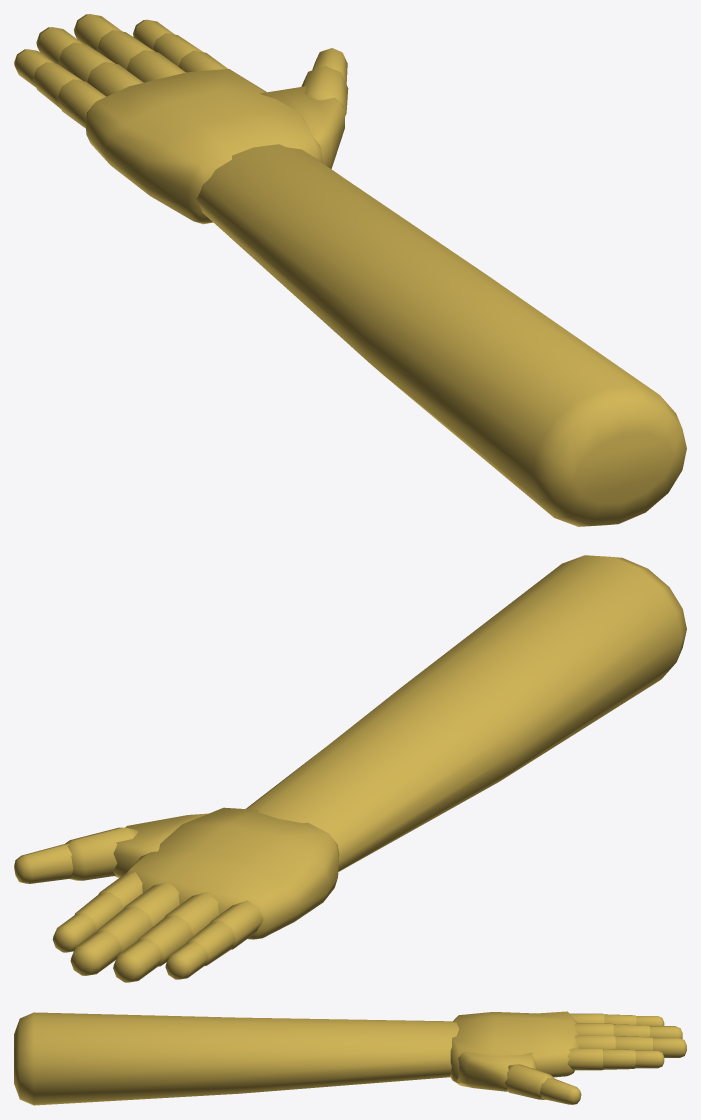
The model's file is hand.glb.
The picture shows the model from 3 angles, top to bottom: view 1: azimuth 30°, elevation 25°; view 2: azimuth 150°, elevation 25°; view 3: azimuth 270°, elevation 25°; orthographic projection. The views are drawn at different scales.
Visible parts, largest first — view 1: arm_lower, hand, thumb_0, pinky_0, thumb_1, middle_1, middle_0, ring_1, ring_0, pinky_1, middle_2, ring_2 (+1 smaller); view 2: arm_lower, hand, thumb_1, thumb_0, thumb_2, middle_2, ring_2, ring_1, middle_1, pinky_0, middle_0, ring_0 (+5 smaller); view 3: arm_lower, hand, thumb_0, thumb_1, thumb_2, index_0, index_1, middle_2, middle_0, middle_1, index_2, ring_0 (+5 smaller).
Boxes of the visible parts, left/top/right/bottom form: arm_lower: left=196, top=144, right=686, bottom=526; hand: left=85, top=69, right=322, bottom=224; thumb_0: left=260, top=86, right=344, bottom=168; pinky_0: left=57, top=79, right=106, bottom=128; thumb_1: left=301, top=66, right=348, bottom=116; middle_1: left=96, top=30, right=155, bottom=69; middle_0: left=126, top=50, right=185, bottom=82; ring_1: left=58, top=42, right=115, bottom=81; ring_0: left=87, top=62, right=143, bottom=96; pinky_1: left=32, top=62, right=82, bottom=108; middle_2: left=74, top=14, right=122, bottom=50; ring_2: left=36, top=27, right=83, bottom=64; arm_lower: left=246, top=555, right=686, bottom=871; hand: left=126, top=807, right=339, bottom=939; thumb_1: left=65, top=827, right=138, bottom=880; thumb_0: left=113, top=813, right=208, bottom=877; thumb_2: left=14, top=844, right=73, bottom=883; middle_2: left=70, top=930, right=121, bottom=975; ring_2: left=113, top=938, right=162, bottom=982; ring_1: left=138, top=915, right=193, bottom=966; middle_1: left=96, top=906, right=152, bottom=953; pinky_0: left=210, top=900, right=263, bottom=949; middle_0: left=124, top=882, right=179, bottom=926; ring_0: left=165, top=892, right=219, bottom=935; arm_lower: left=14, top=1012, right=458, bottom=1105; hand: left=450, top=1011, right=580, bottom=1083; thumb_0: left=452, top=1051, right=536, bottom=1091; thumb_1: left=505, top=1064, right=554, bottom=1099; thumb_2: left=540, top=1078, right=581, bottom=1104; index_0: left=567, top=1048, right=602, bottom=1070; index_1: left=603, top=1049, right=635, bottom=1069; middle_2: left=653, top=1038, right=686, bottom=1057; middle_0: left=574, top=1035, right=615, bottom=1049; middle_1: left=615, top=1036, right=652, bottom=1050; index_2: left=635, top=1050, right=664, bottom=1068; ring_0: left=574, top=1023, right=613, bottom=1035.
Size of the model in its own units: 2.89 by 1.4 by 10.35.
